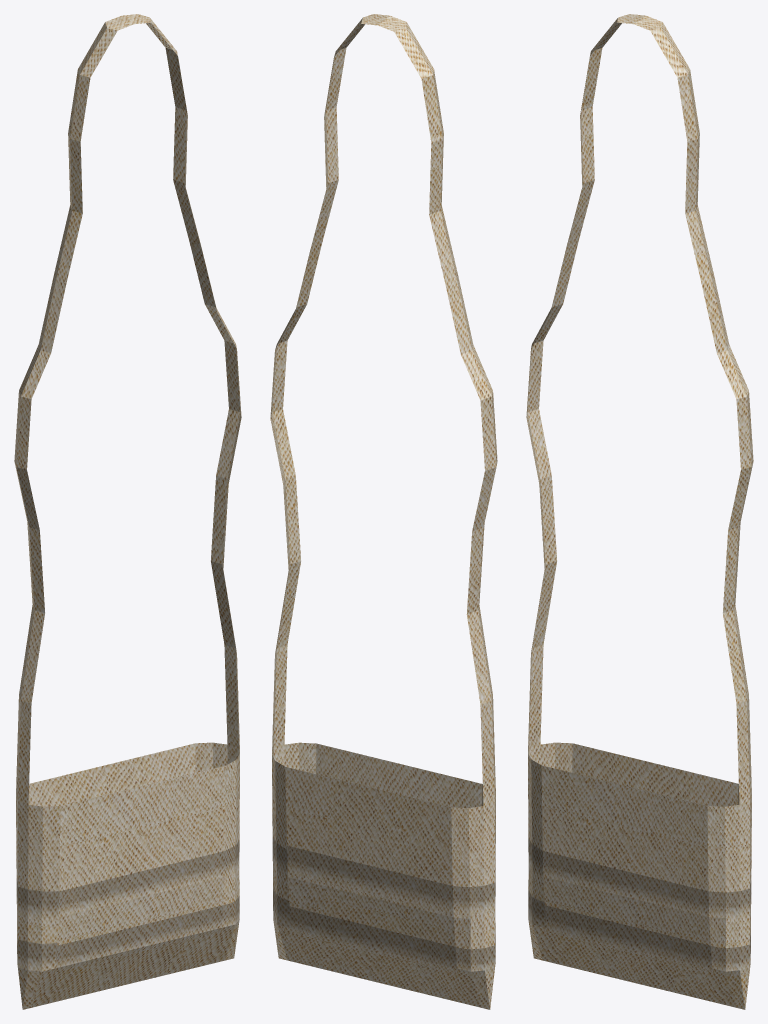
Rendered from uyunt.glb.
3 views of the same model, side by side, from view 1: azimuth 30°, elevation 25°; view 2: azimuth 150°, elevation 25°; view 3: azimuth 330°, elevation 25° (orthographic).
Visible parts, largest first — view 1: Plane; view 2: Plane; view 3: Plane.
Boxes of the visible parts, x1,y1,x2,y2 form: Plane: [14, 14, 241, 1009]; Plane: [270, 14, 497, 1009]; Plane: [526, 14, 753, 1009].
Size of the model in its own units: 1.43 by 5.89 by 0.3441.
1 material, 1 textured.
